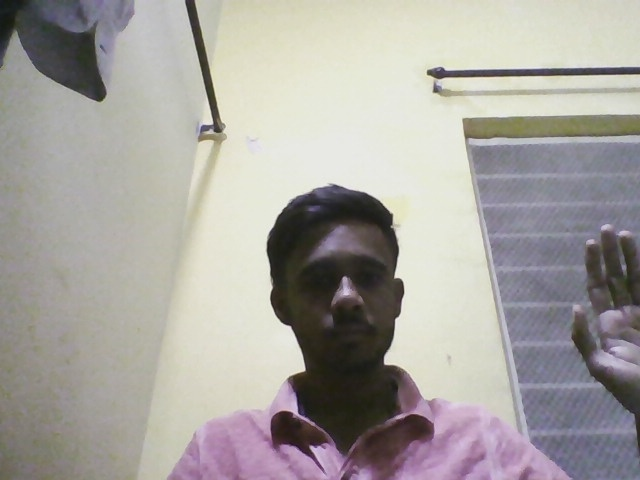hello: (555, 210, 640, 424)
